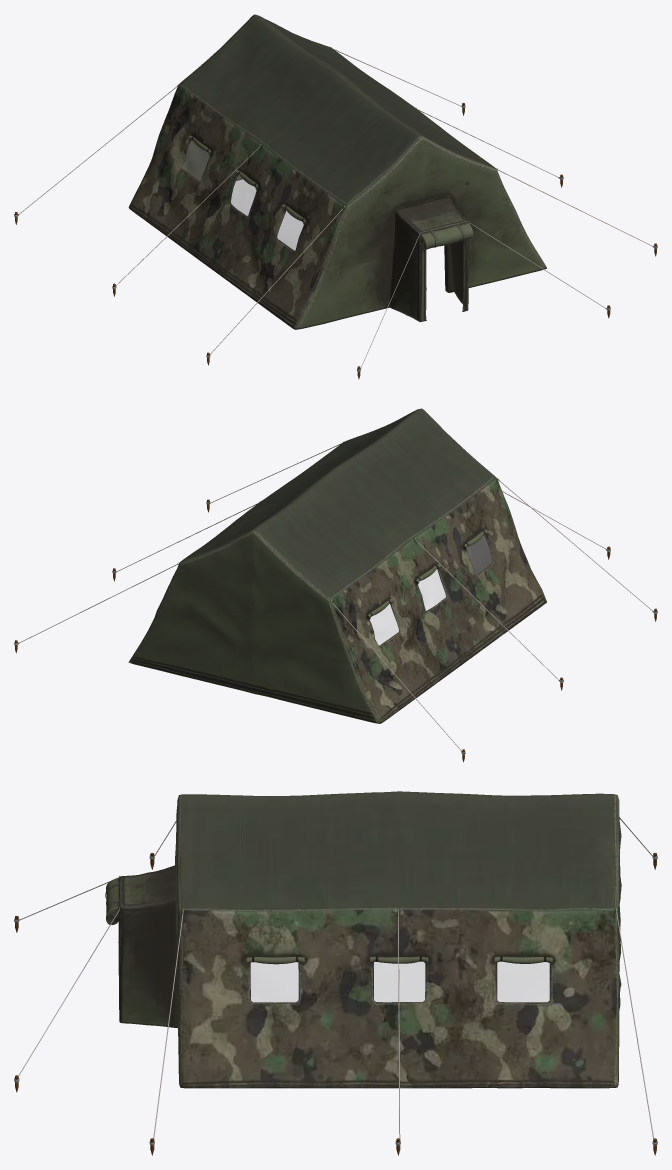
File: lm-tent.glb
The picture shows the model from 3 angles, top to bottom: view 1: azimuth 30°, elevation 25°; view 2: azimuth 150°, elevation 25°; view 3: azimuth 270°, elevation 25°; orthographic projection. The views are drawn at different scales.
Parts seen in each view (by area): view 1: Military_tent; view 2: Military_tent; view 3: Military_tent.
Boxes of the visible parts, x1=… form: Military_tent: x1=14, y1=14, x2=657, y2=379; Military_tent: x1=14, y1=408, x2=657, y2=762; Military_tent: x1=14, y1=791, x2=657, y2=1155.
Bounding box in the file's own units: 11.17 × 4 × 10.55.
2 materials, 1 textured.
